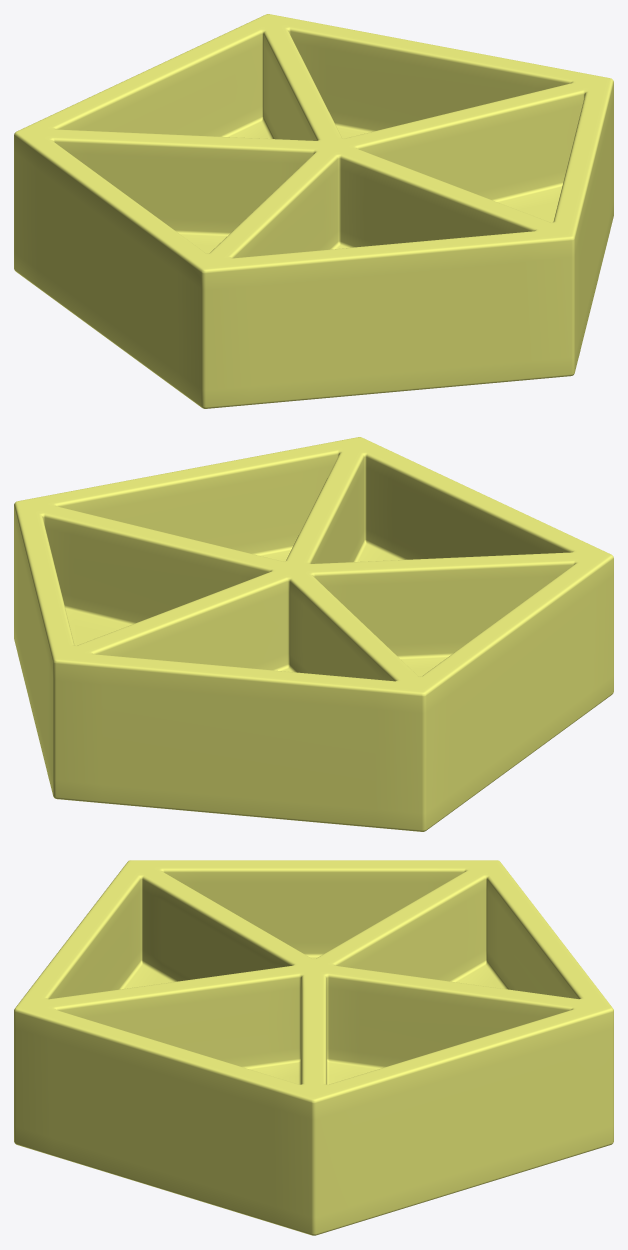
File: lunchbox_beta.fbx
The picture shows the model from 3 angles, top to bottom: view 1: azimuth 30°, elevation 25°; view 2: azimuth 150°, elevation 25°; view 3: azimuth 270°, elevation 25°; orthographic projection. The views are drawn at different scales.
Visible parts, largest first — view 1: lunchbox_high; view 2: lunchbox_high; view 3: lunchbox_high.
Part boxes in pixels (bbox=[...]): lunchbox_high: bbox=[14, 14, 613, 408]; lunchbox_high: bbox=[14, 437, 613, 831]; lunchbox_high: bbox=[14, 860, 613, 1235].
Bounding box in the file's own units: 93.54 × 24.66 × 98.26.
